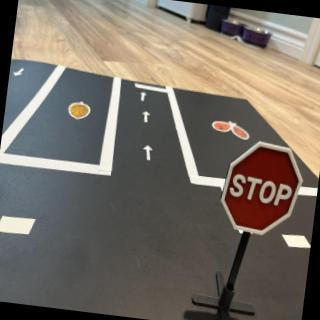road_oneway: (141, 144, 157, 168), (13, 65, 28, 81), (141, 110, 152, 127), (139, 92, 149, 105)
sign_stop: (220, 139, 308, 238)
